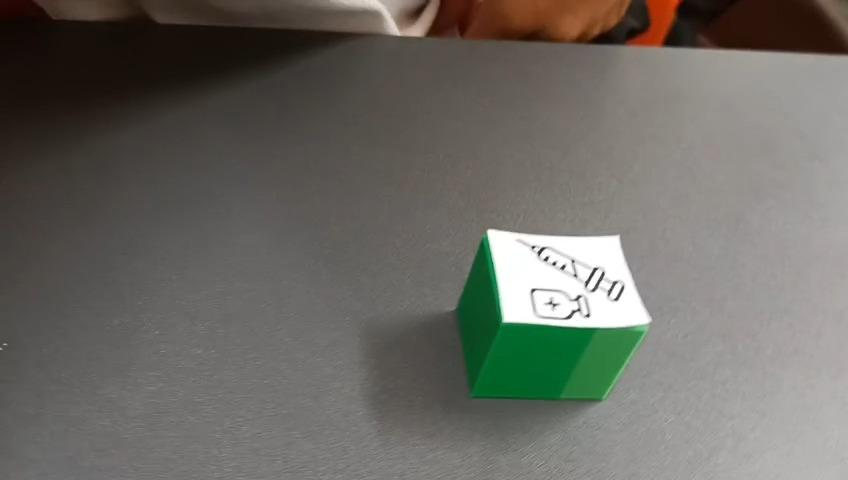antiseptic cream: (454, 226, 652, 402)
